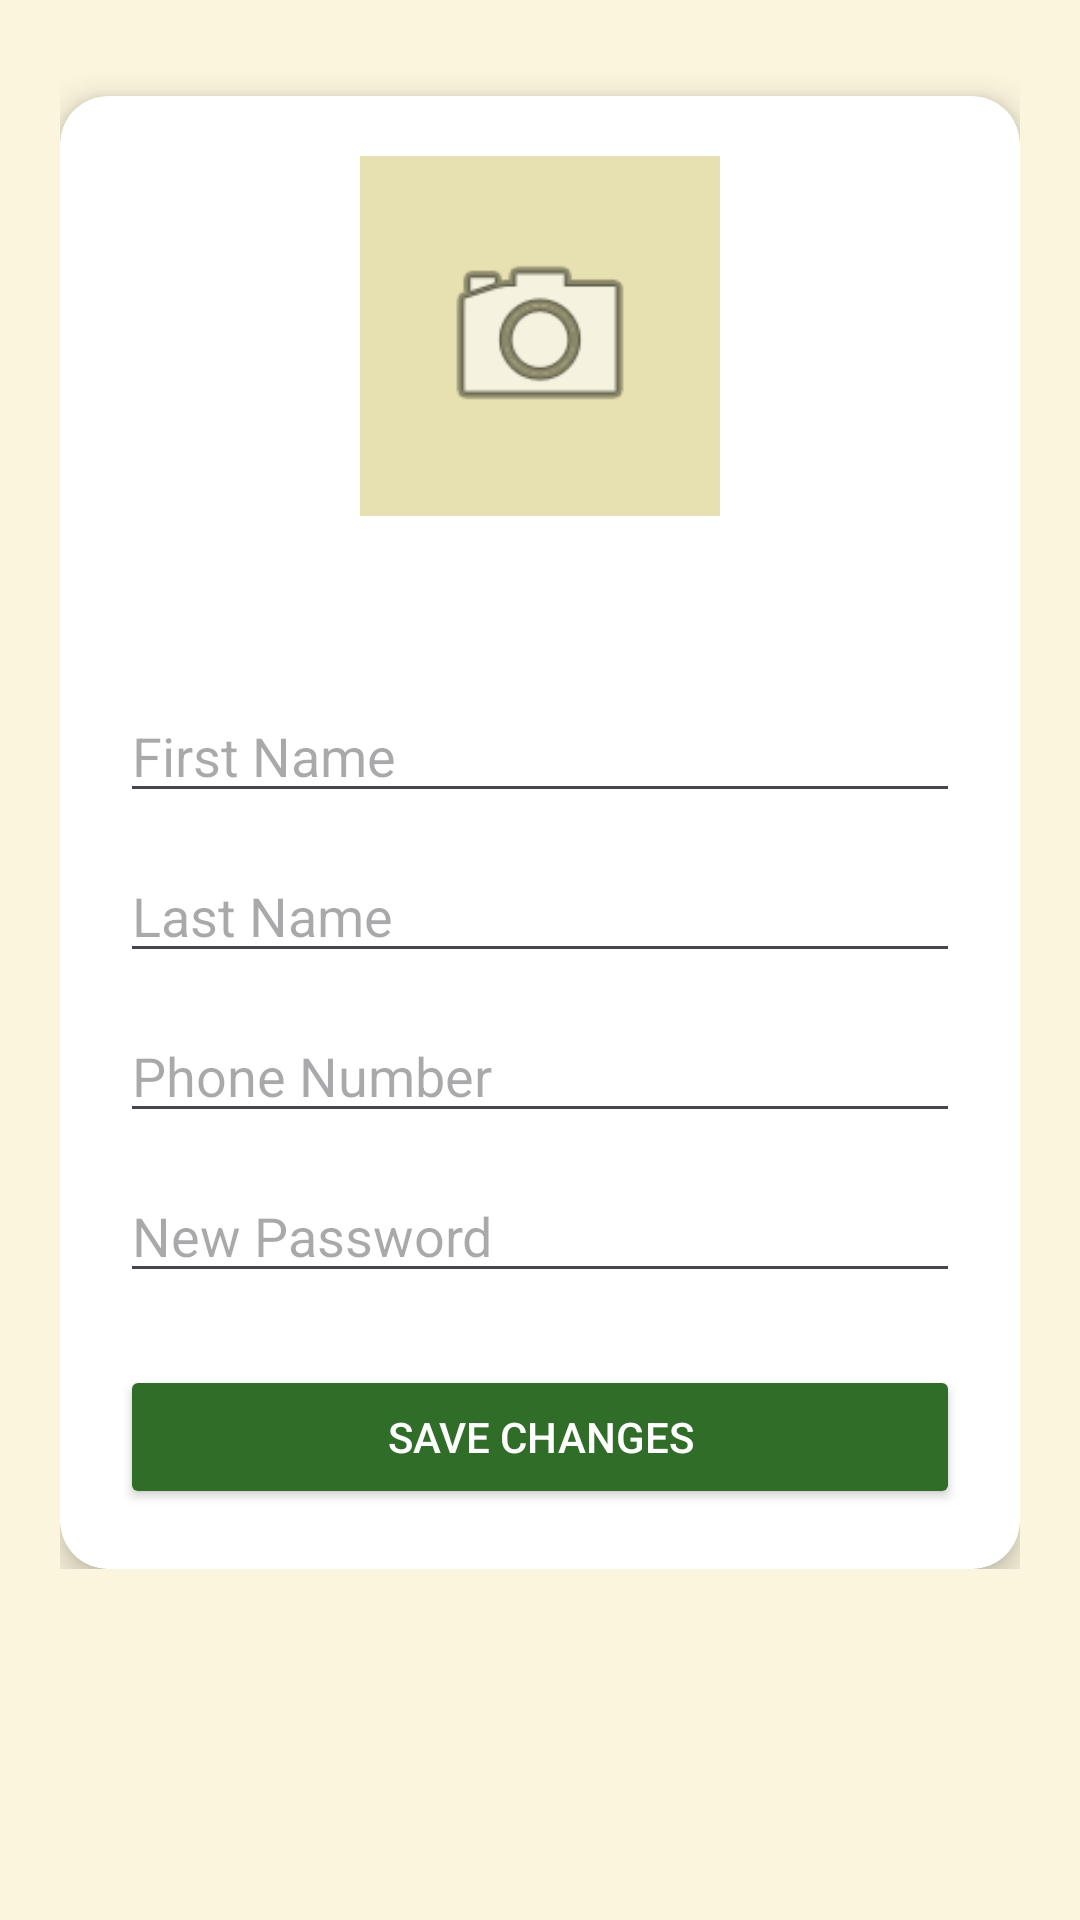

Icons on this 1080w x 1920h Android screen, each with the point to tap as (x=x, y=y):
camera: (x=540, y=336)
